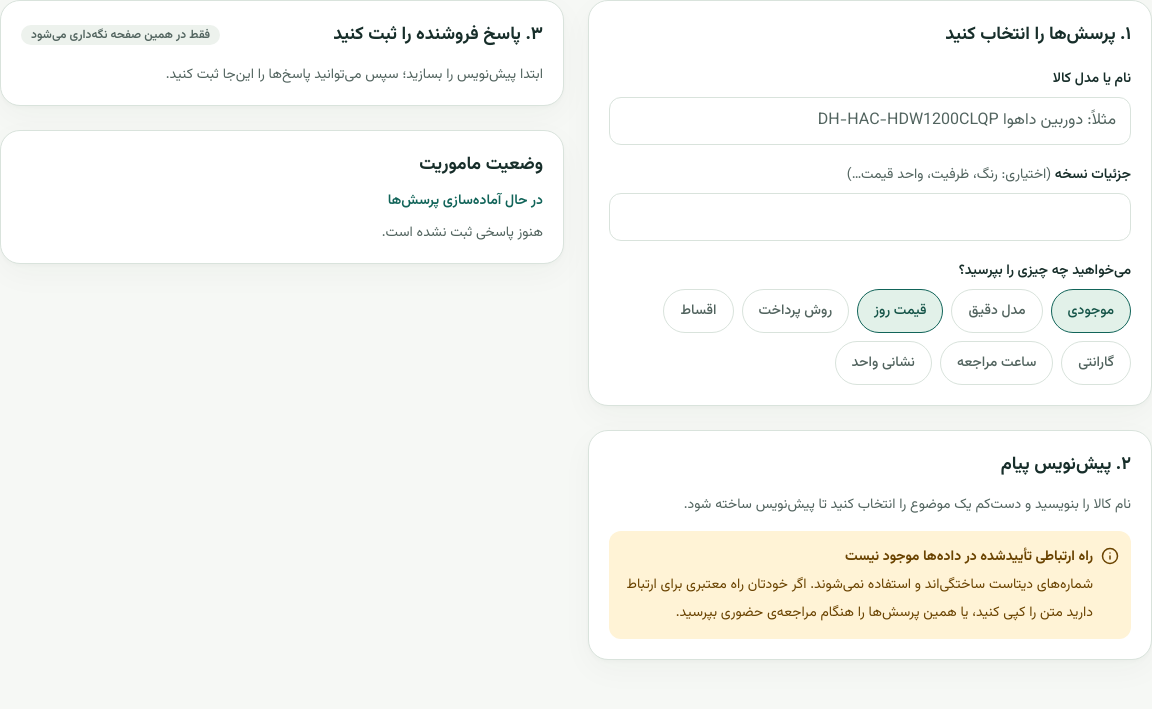
Test case: SellerQa (local-only workspace) › records a manual response labelled unverified and tracks unresolved questions
Type "پمپ آب" into the field labelled "نام یا مدل کالا".
click(870, 121); type("پمپ آب")  # box [609,97,1131,145]
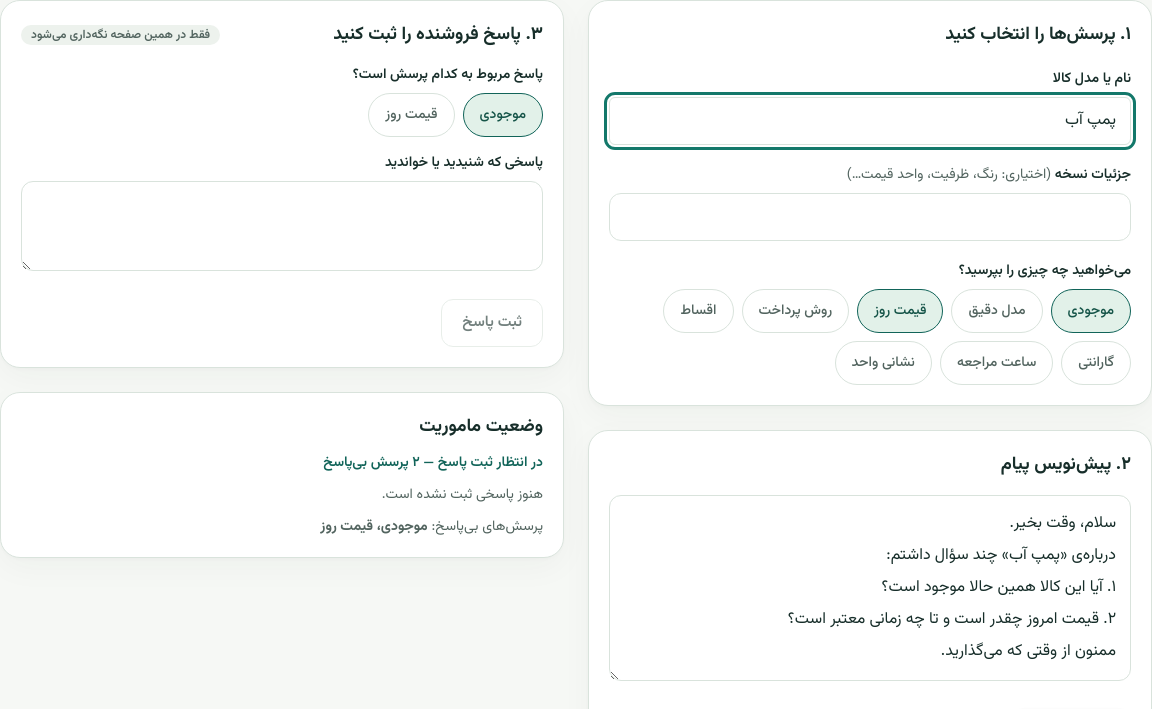
Check: the text "در انتظار ثبت پاسخ — ۲ پرسش بی‌پاسخ" is shown, box [323,452,543,474]
Type "تا فردا می‌رسد" into the text box labelled "پاسخی که شنیدید یا خواندید".
click(282, 226); type("تا فردا می‌رسد")  # box [21,181,543,271]
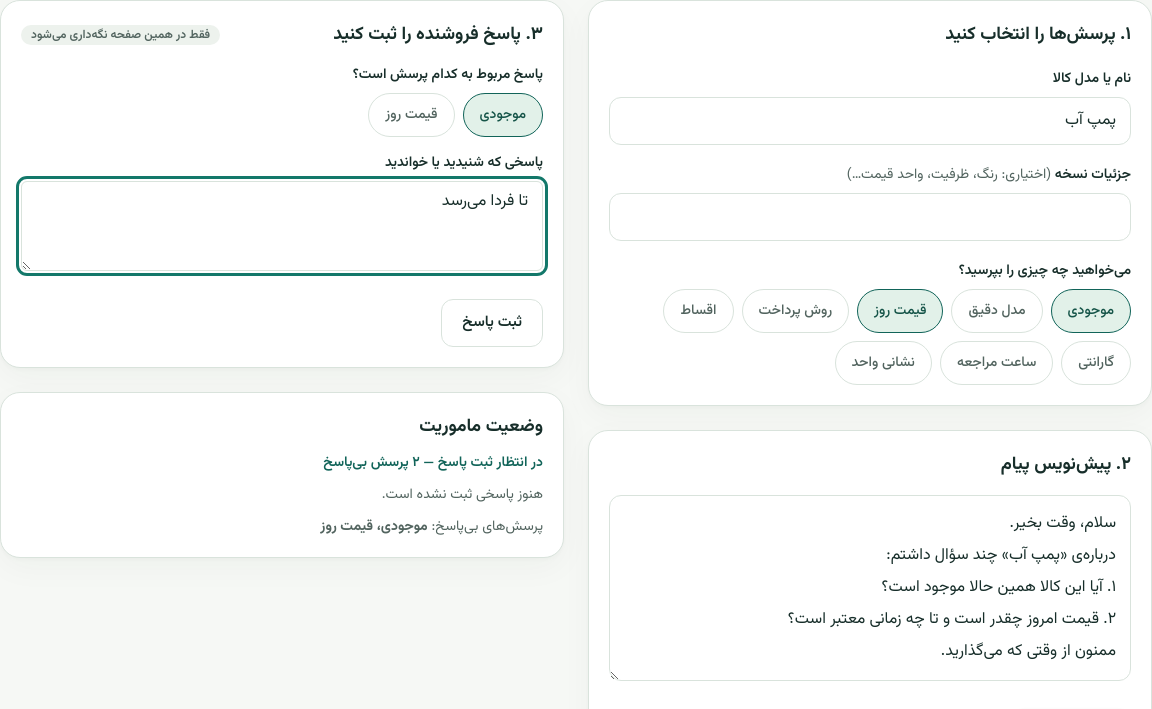
Click the button "ثبت پاسخ".
click(492, 323)  # box [441,299,543,347]
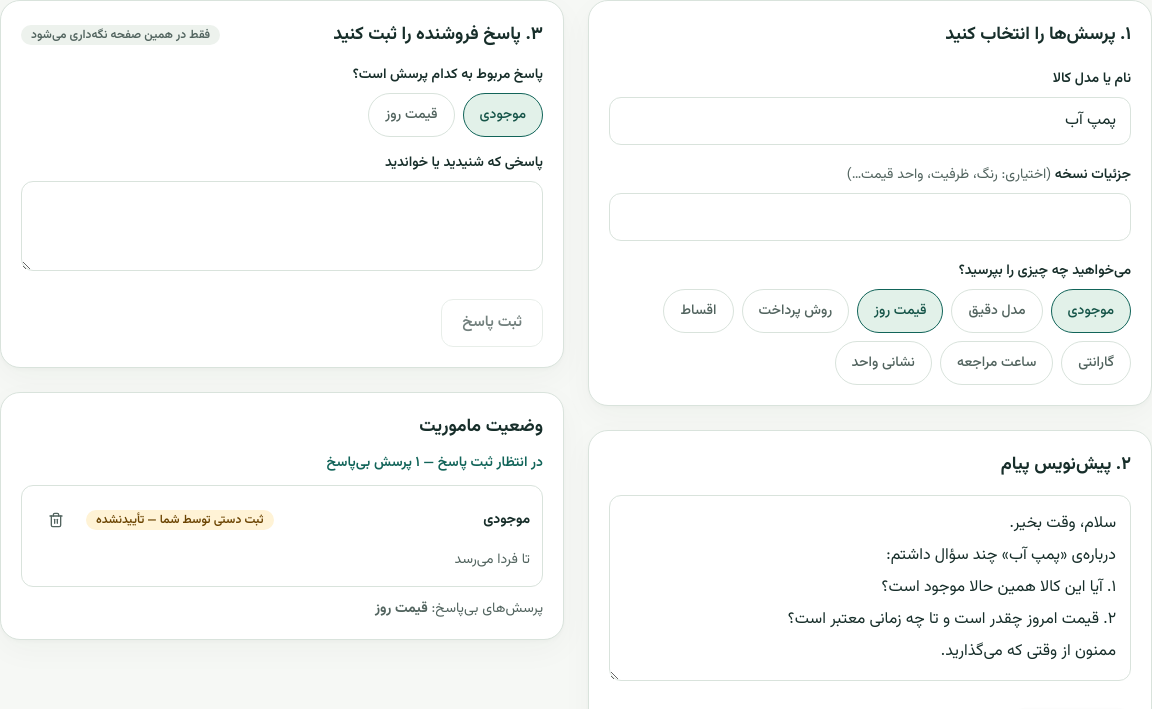
Check: the text "ثبت دستی توسط شما — تأییدنشده" is shown, box [86,510,274,530]
Check: the text "در انتظار ثبت پاسخ — ۱ پرسش بی‌پاسخ" is shown, box [326,452,543,474]
